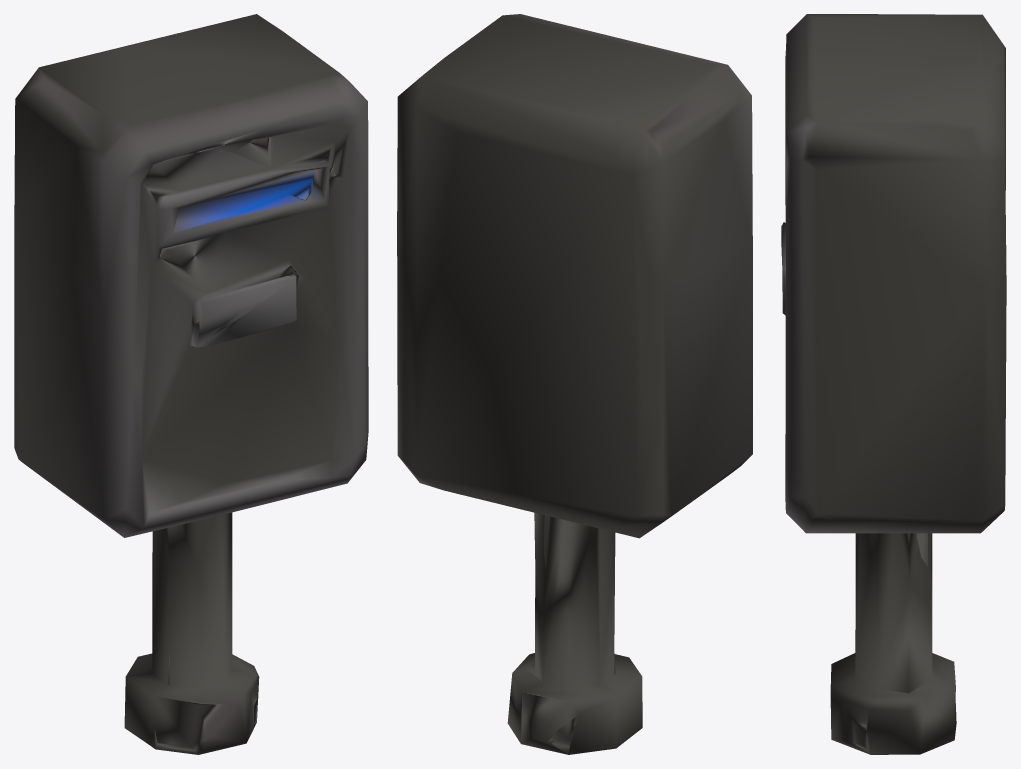
The model's file is gen3d-street-mailbox-lod1.glb.
3 renders of one model, left to right at view 1: azimuth 30°, elevation 25°; view 2: azimuth 150°, elevation 25°; view 3: azimuth 270°, elevation 25°, orthographic.
Visible parts, largest first — view 1: part_0; view 2: part_0; view 3: part_0.
Boxes of the visible parts, bbox=[...] form: part_0: bbox=[14, 14, 368, 754]; part_0: bbox=[397, 14, 752, 754]; part_0: bbox=[781, 14, 1006, 754].
Bounding box in the file's own units: 0.4248 × 1 × 0.3084.
